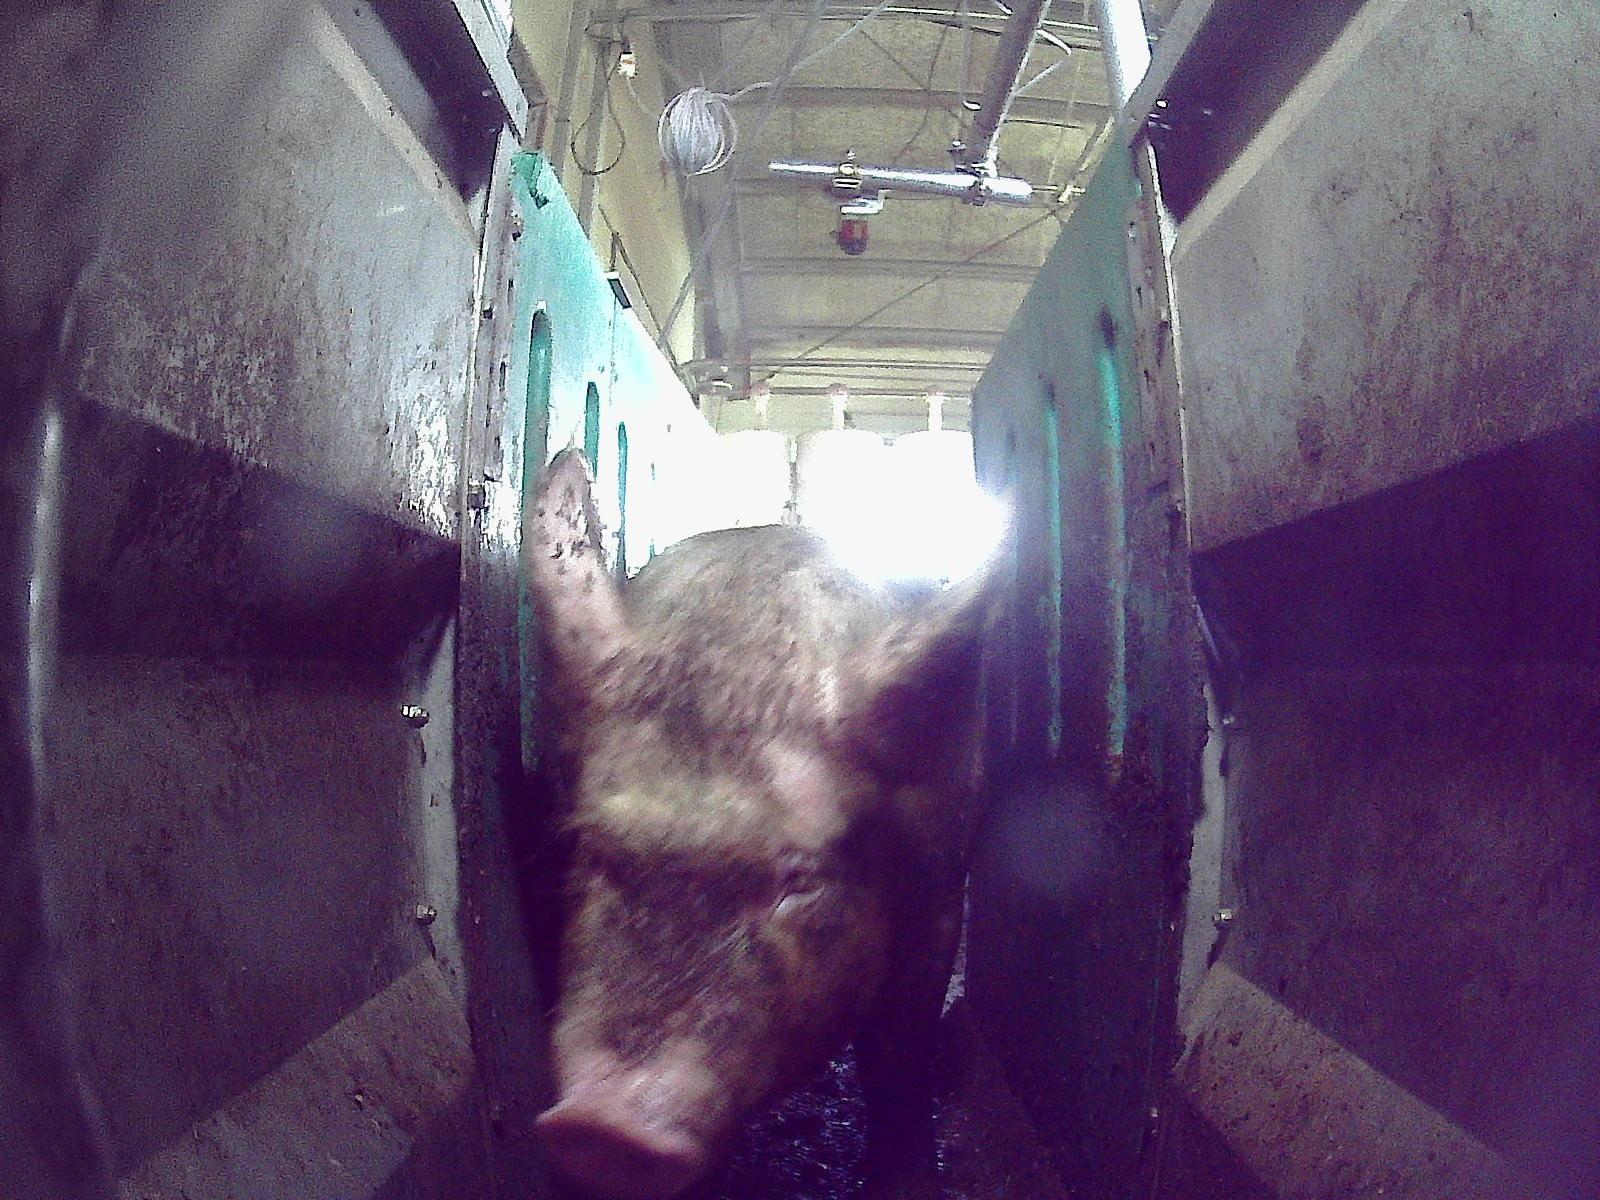Face: (533, 608, 904, 1199)
